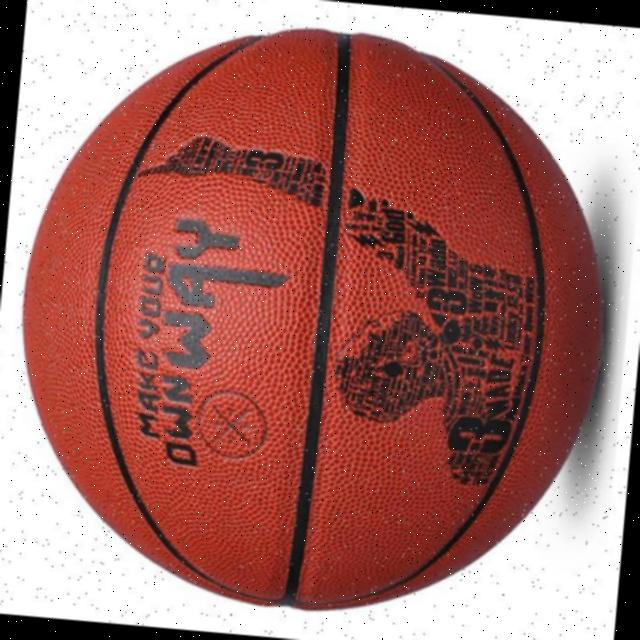ball: (0, 4, 628, 631)
